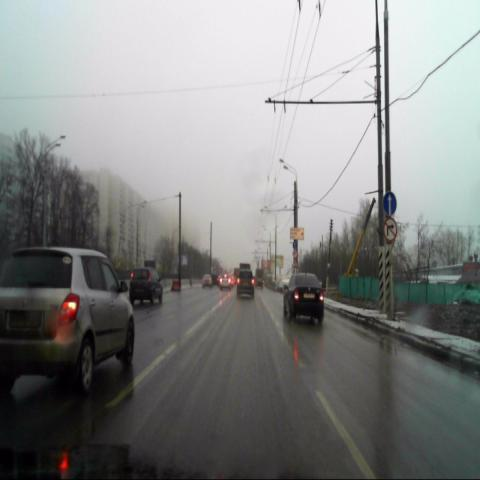3_18: (384, 217, 398, 242)
